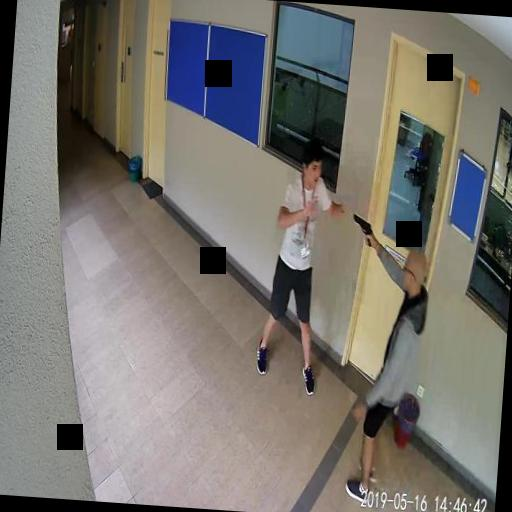Handgun: (350, 213, 374, 245)
